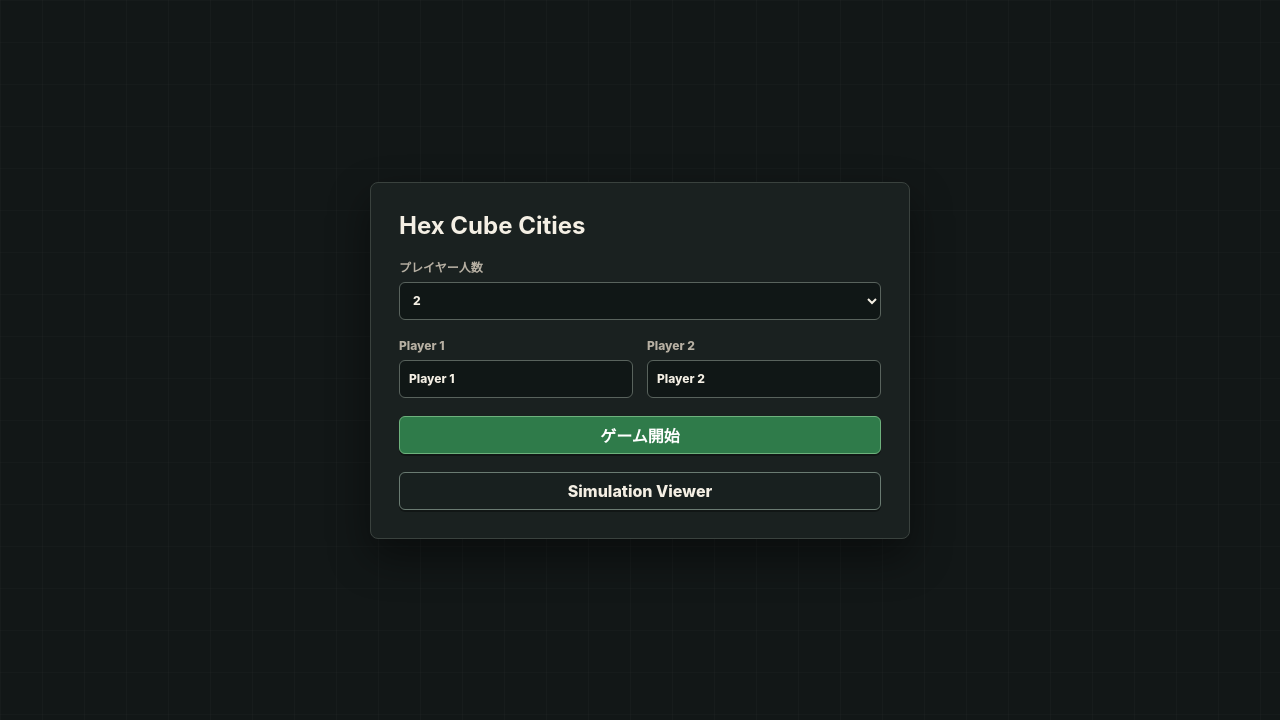
Test: App › starts a game from the setup screen
This screenshot has width=1280, height=720.
Click the button "ゲーム開始": (640, 434) [399, 416, 881, 454]
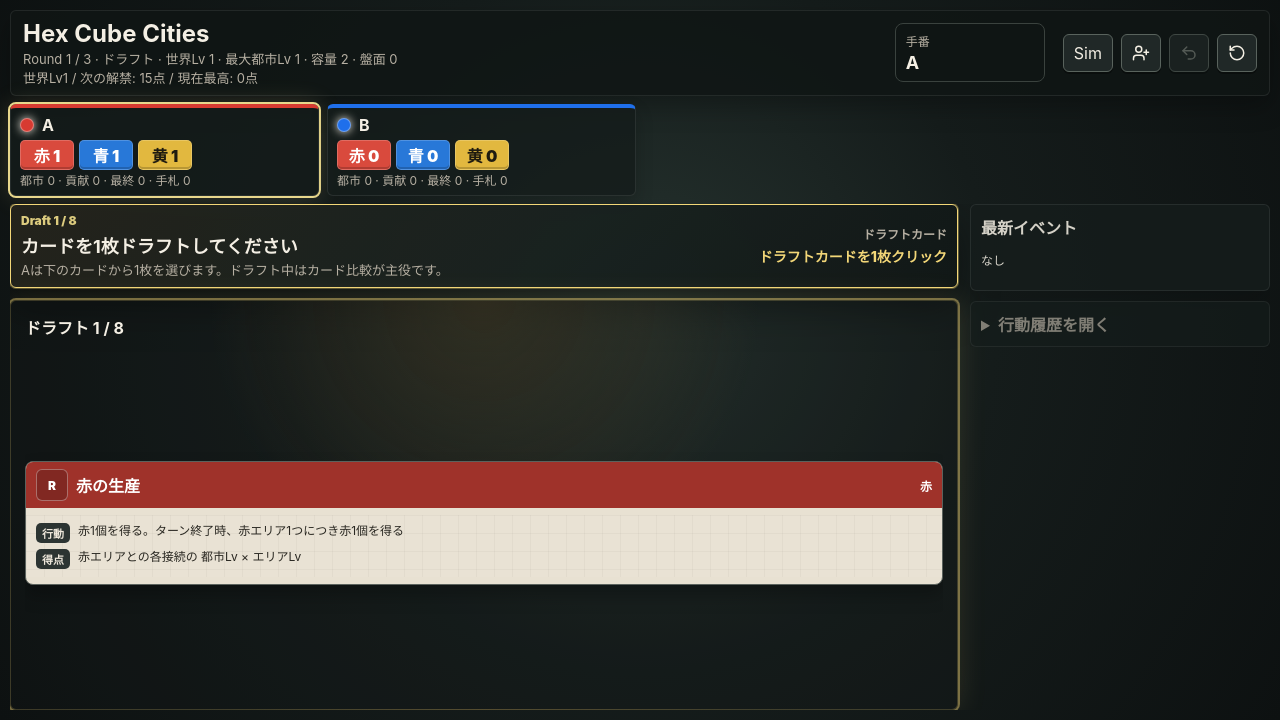
Expected: the text "Round 1 / 3 · ドラフト · 世界Lv 1 · 最大都市Lv 1 · 容量 2 · 盤面 0" is shown, [23, 51, 398, 67]
